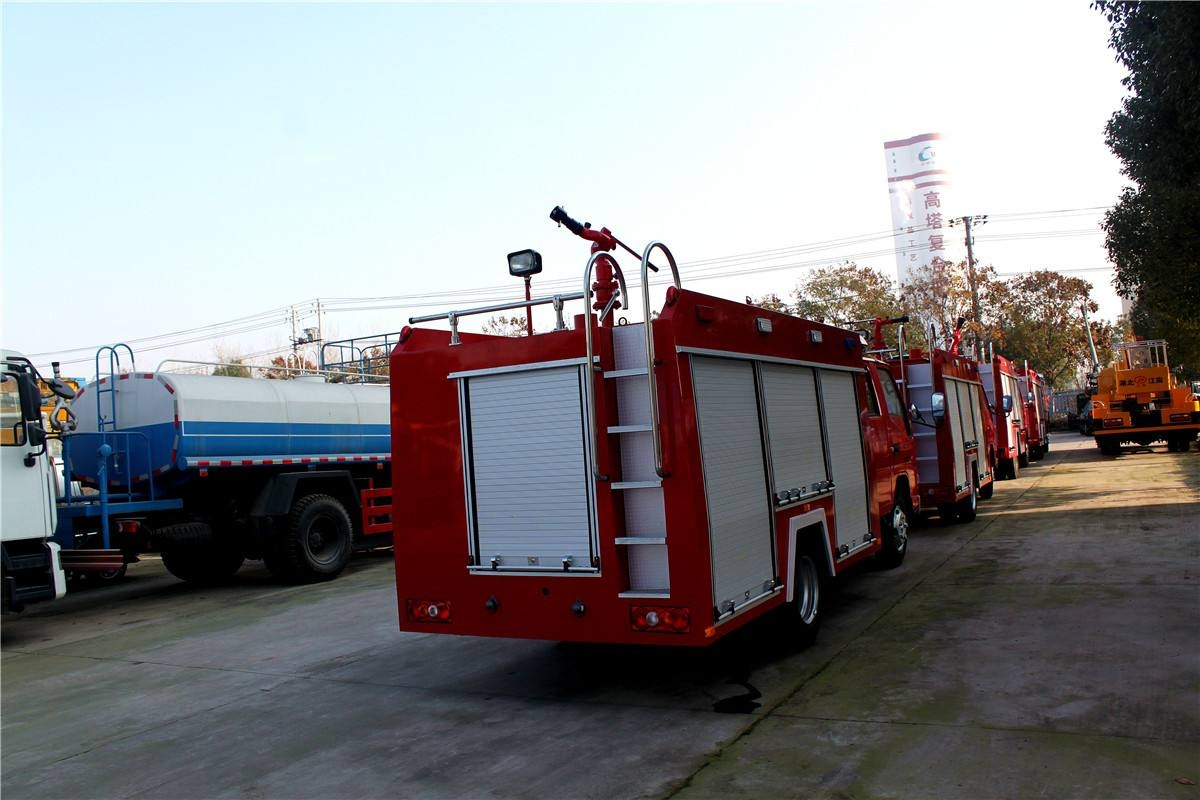fire engine: (377, 252, 934, 683)
